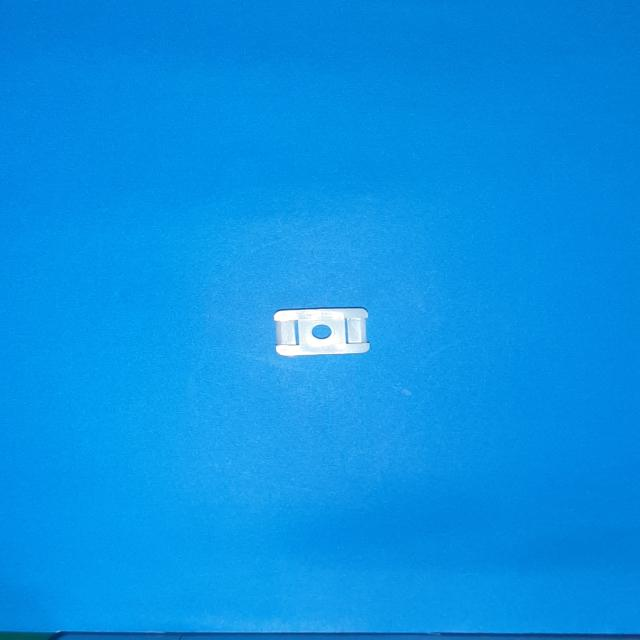false_1: (273, 308, 370, 356)
